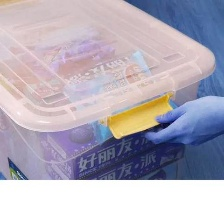plastic_box: (0, 0, 220, 178)
